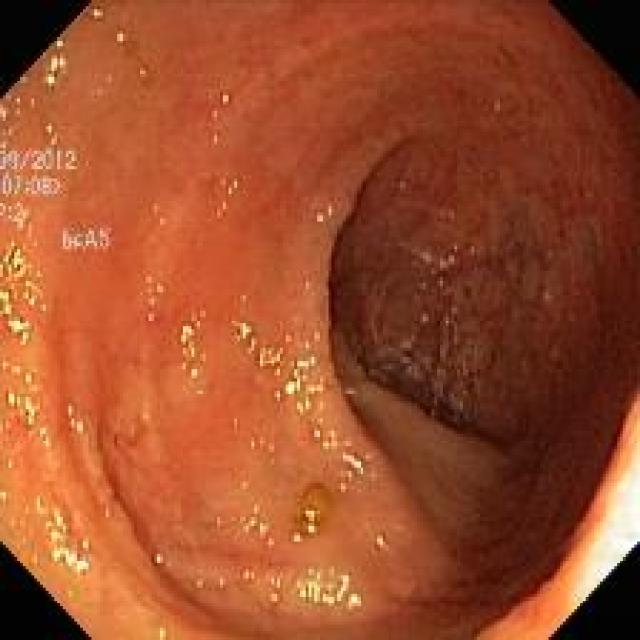ulcerative-colitis-grade-1: (330, 101, 638, 606)
